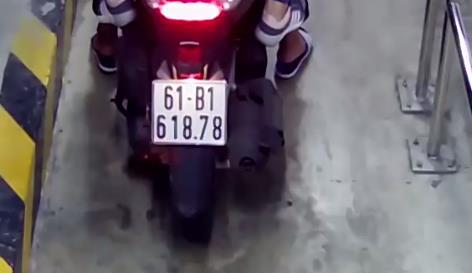lisence: (152, 80, 227, 146)
